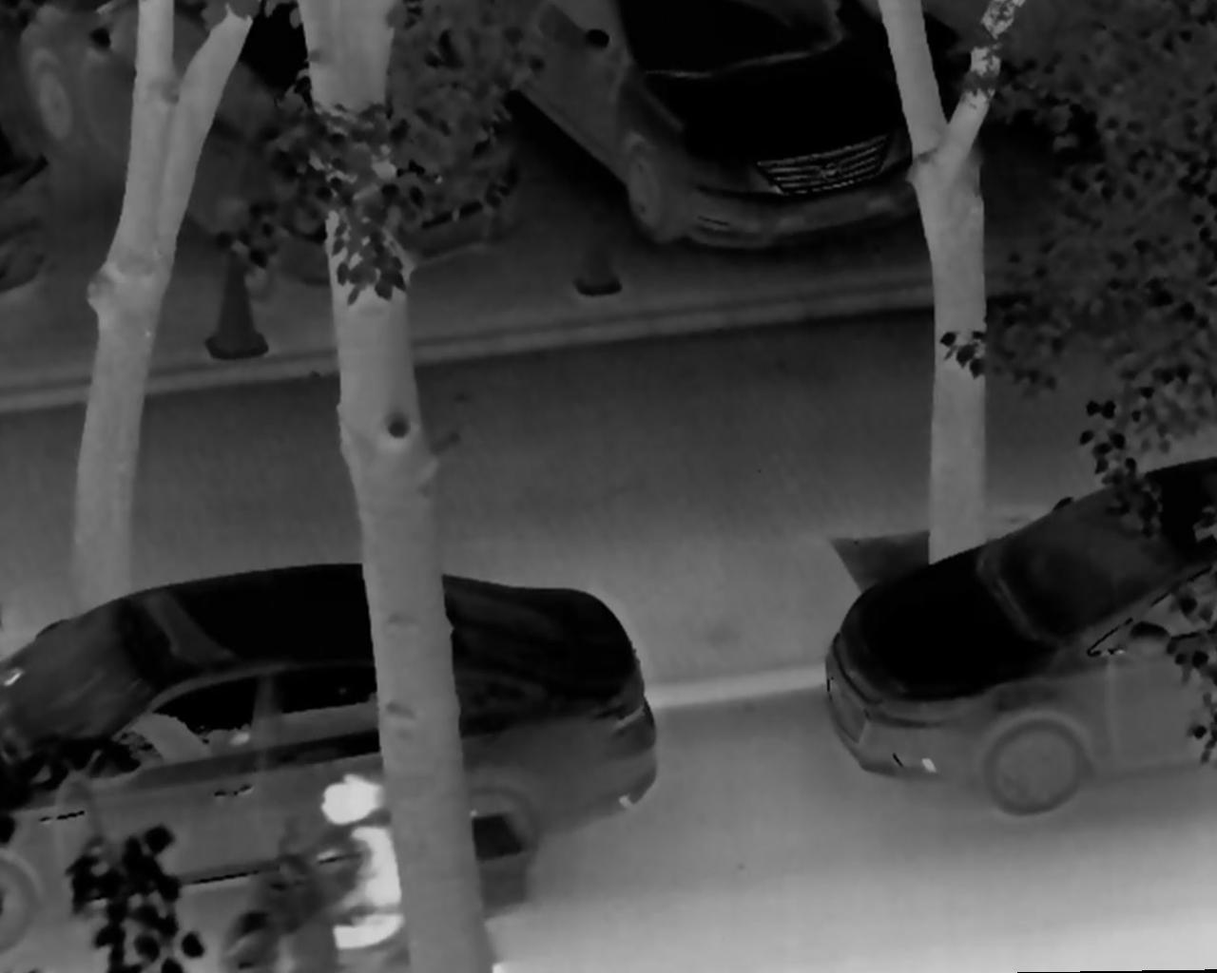person: (278, 774, 414, 962)
